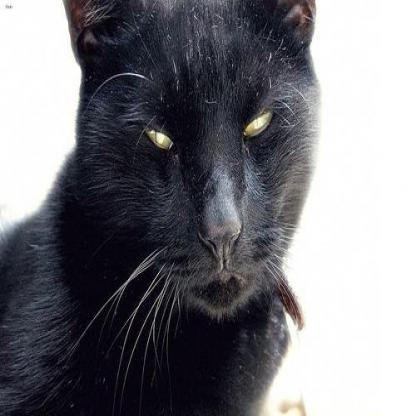cat: (0, 0, 321, 416)
